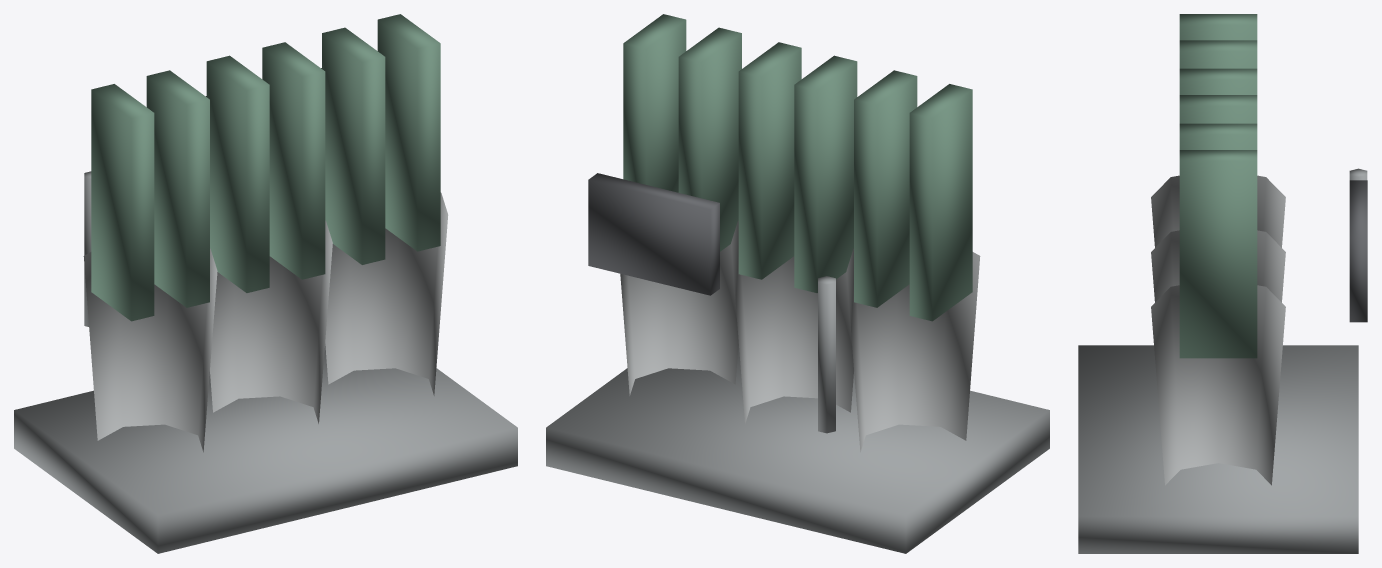
Rendered from standing_floral_display__service.glb.
3 views of the same model, side by side, from view 1: azimuth 30°, elevation 25°; view 2: azimuth 150°, elevation 25°; view 3: azimuth 270°, elevation 25° (orthographic). The views are drawn at different scales.
Parts seen in each view (by area): view 1: world; view 2: world; view 3: world.
Part boxes in pixels (box(x1,y1,x2,y2)): world: box(14, 14, 517, 553); world: box(546, 14, 1049, 553); world: box(1078, 14, 1367, 553).
Size of the model in its own units: 0.78 by 0.81 by 0.5575.
